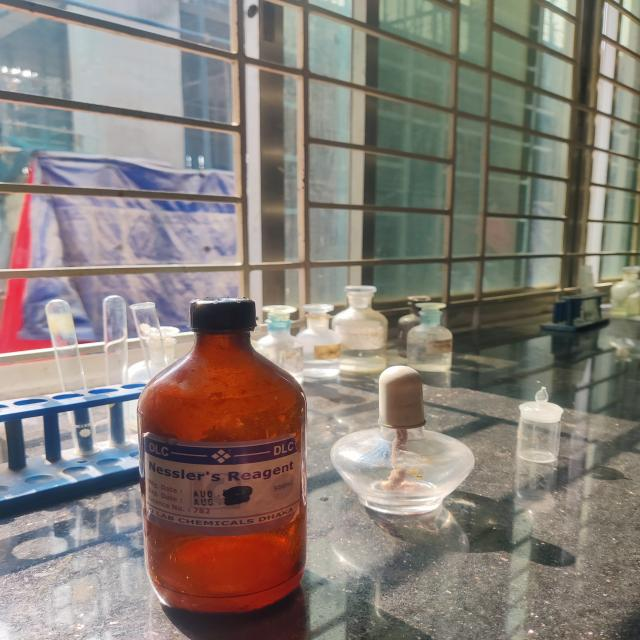Nessler_Reagent_Bottle: (130, 294, 311, 620)
Spirit_Lamp: (327, 358, 484, 520)
Weighing_Bottle: (512, 381, 579, 475)
